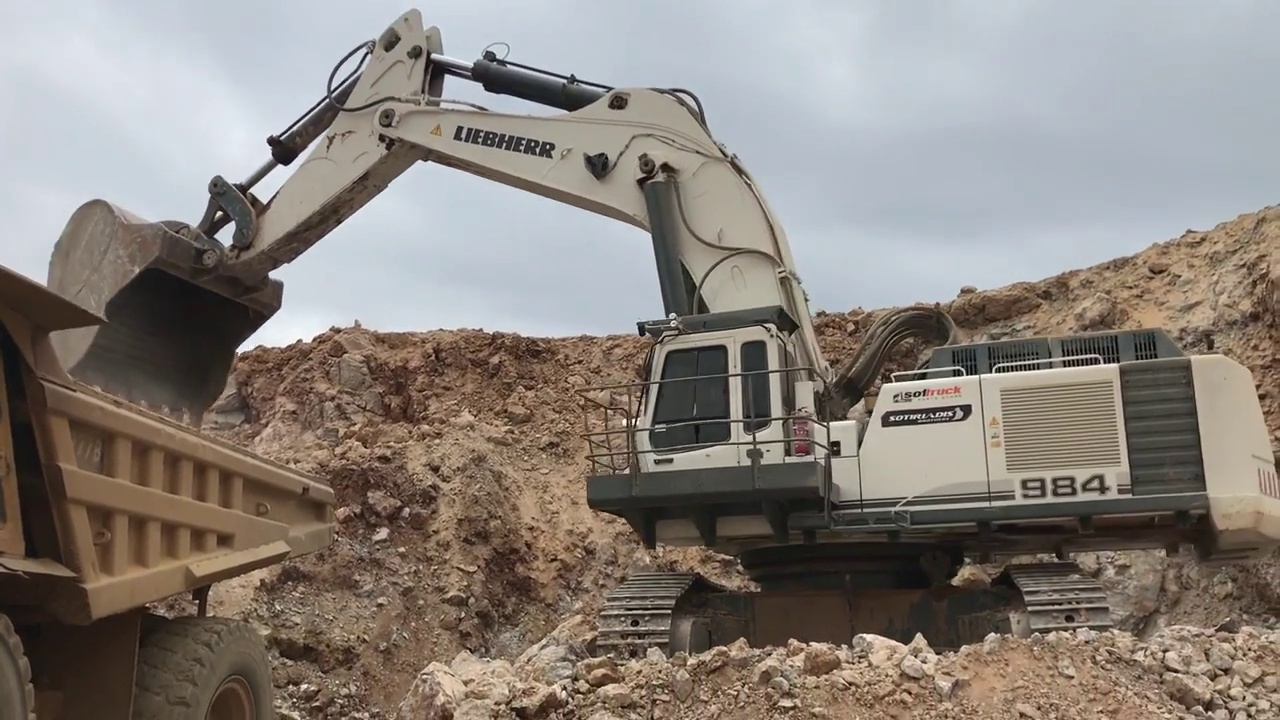dumper: (1, 263, 333, 710)
excavator: (48, 9, 1277, 657)
